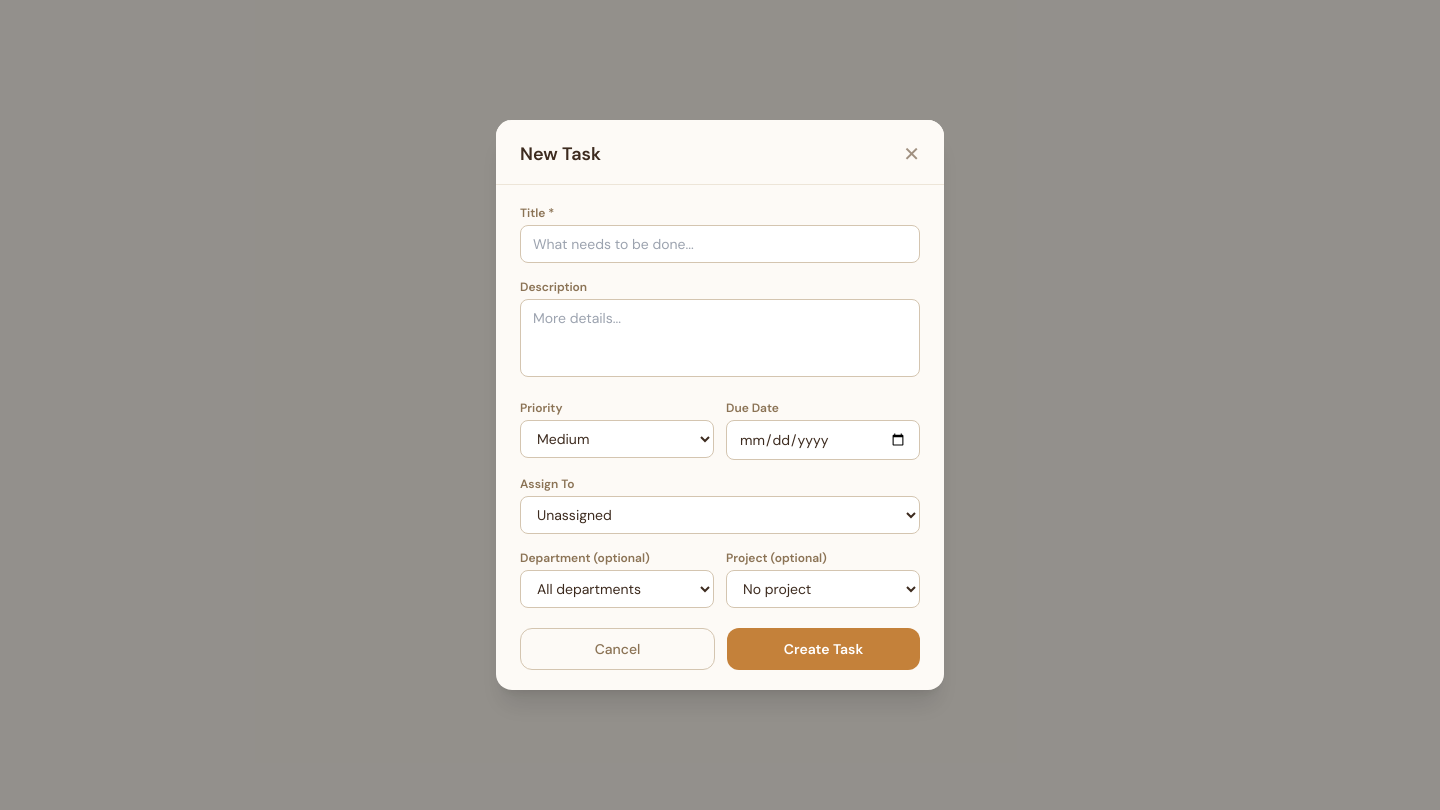
project 下拉挑好之后,存档要看 WriteOutcome 不是只看有没有丢例外 › keeps the modal open and reports the RLS-blocked write instead of treating it as saved
The width and height of the screenshot is (1440, 810).
Type "Roast the new lot" into the field with placeholder "What needs to be done..." at (720, 244), box [520,225,920,263]
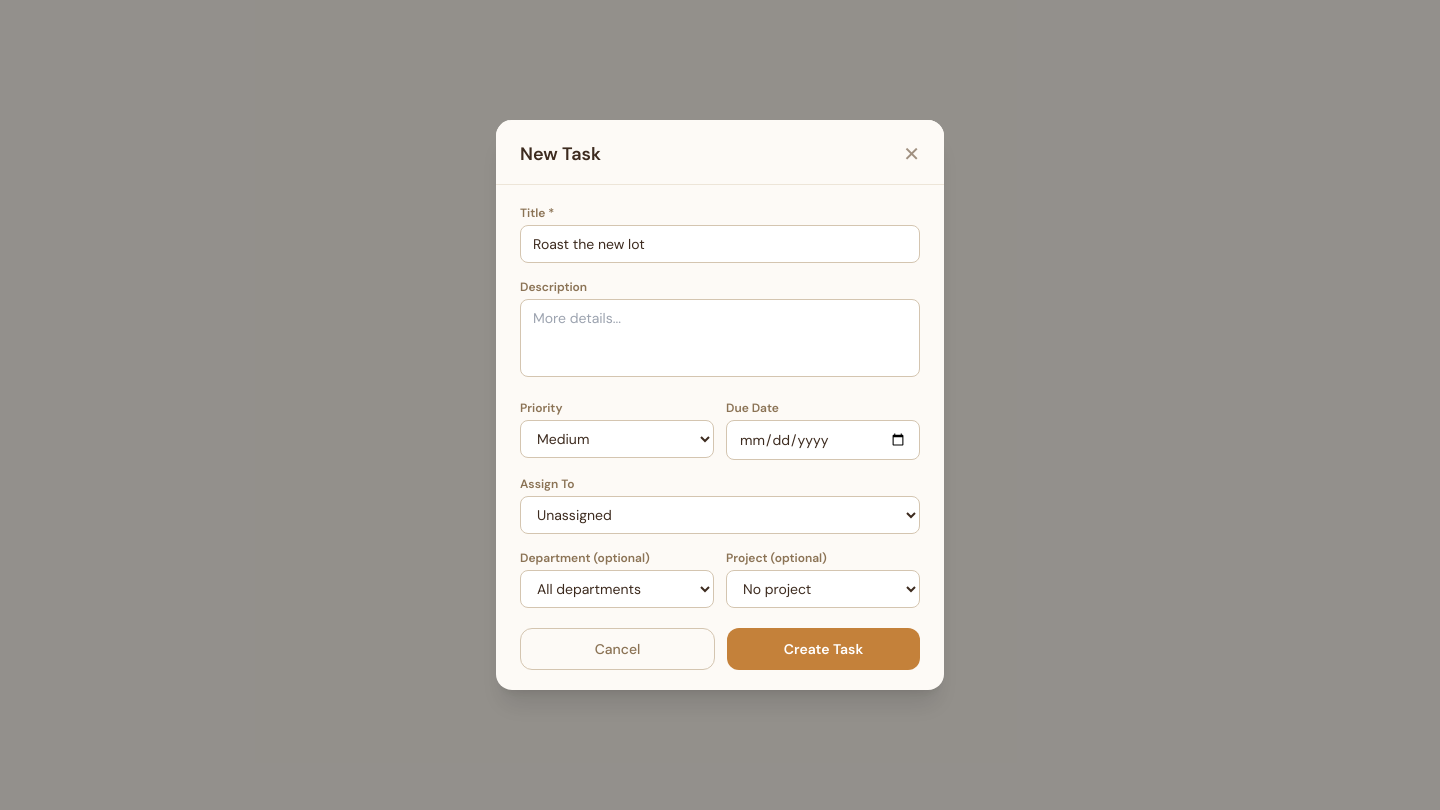
Select "Cafe Refit" in the dropdown showing "No project" below "Project (optional)" at (823, 589), box [726,570,920,608]
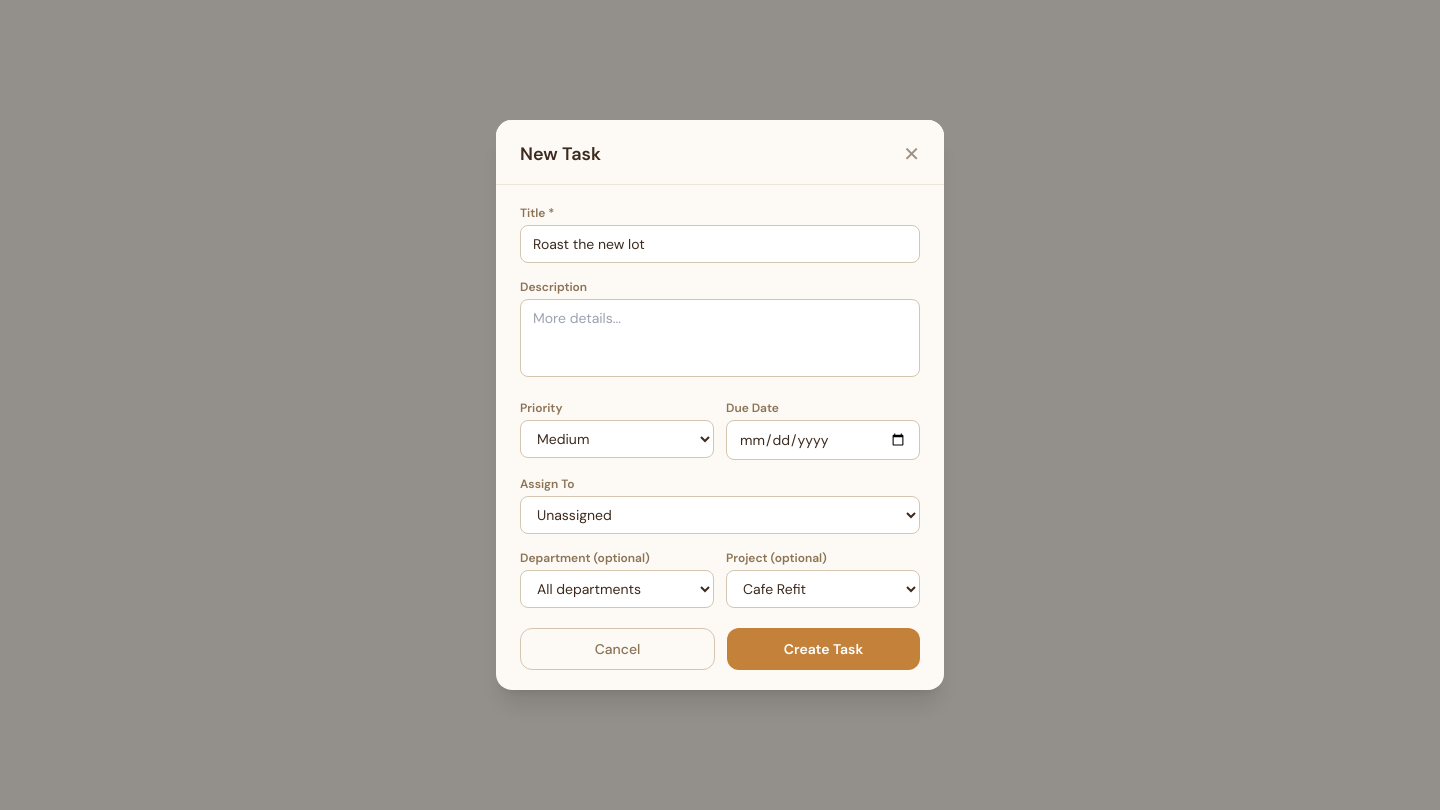
Click the button "Create Task" at (824, 649), box [727,628,920,670]
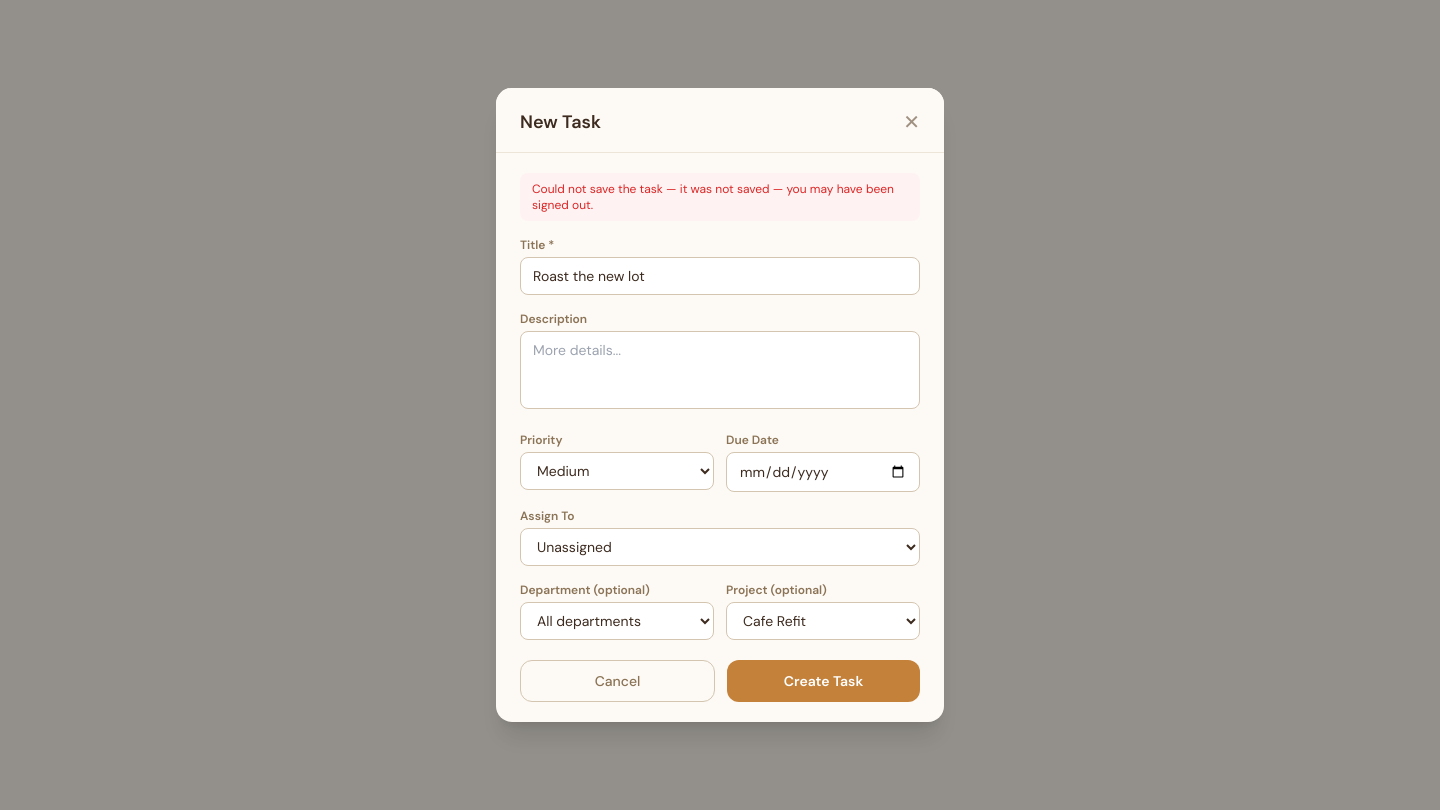
Check: the text "Could not save the task" shows "signed out", box [532,181,894,213]
